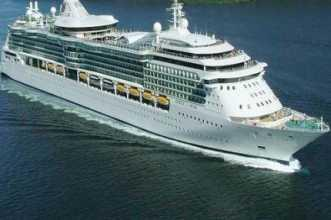youlun: (2, 1, 330, 166)
